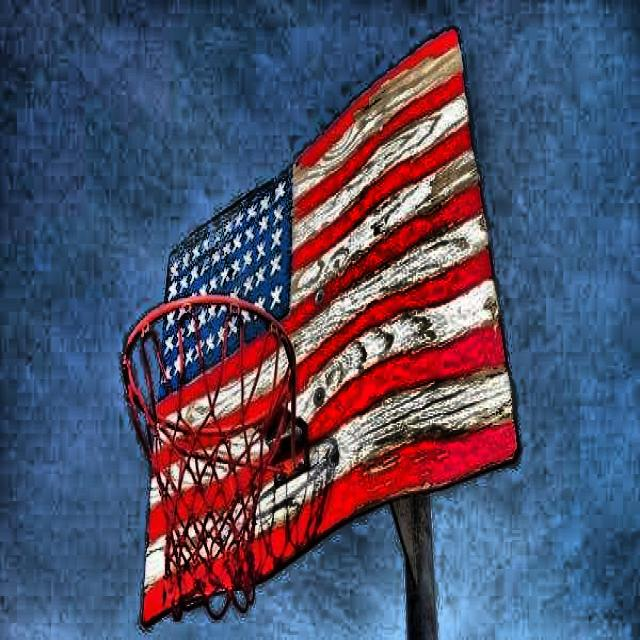rim: (121, 296, 289, 612)
